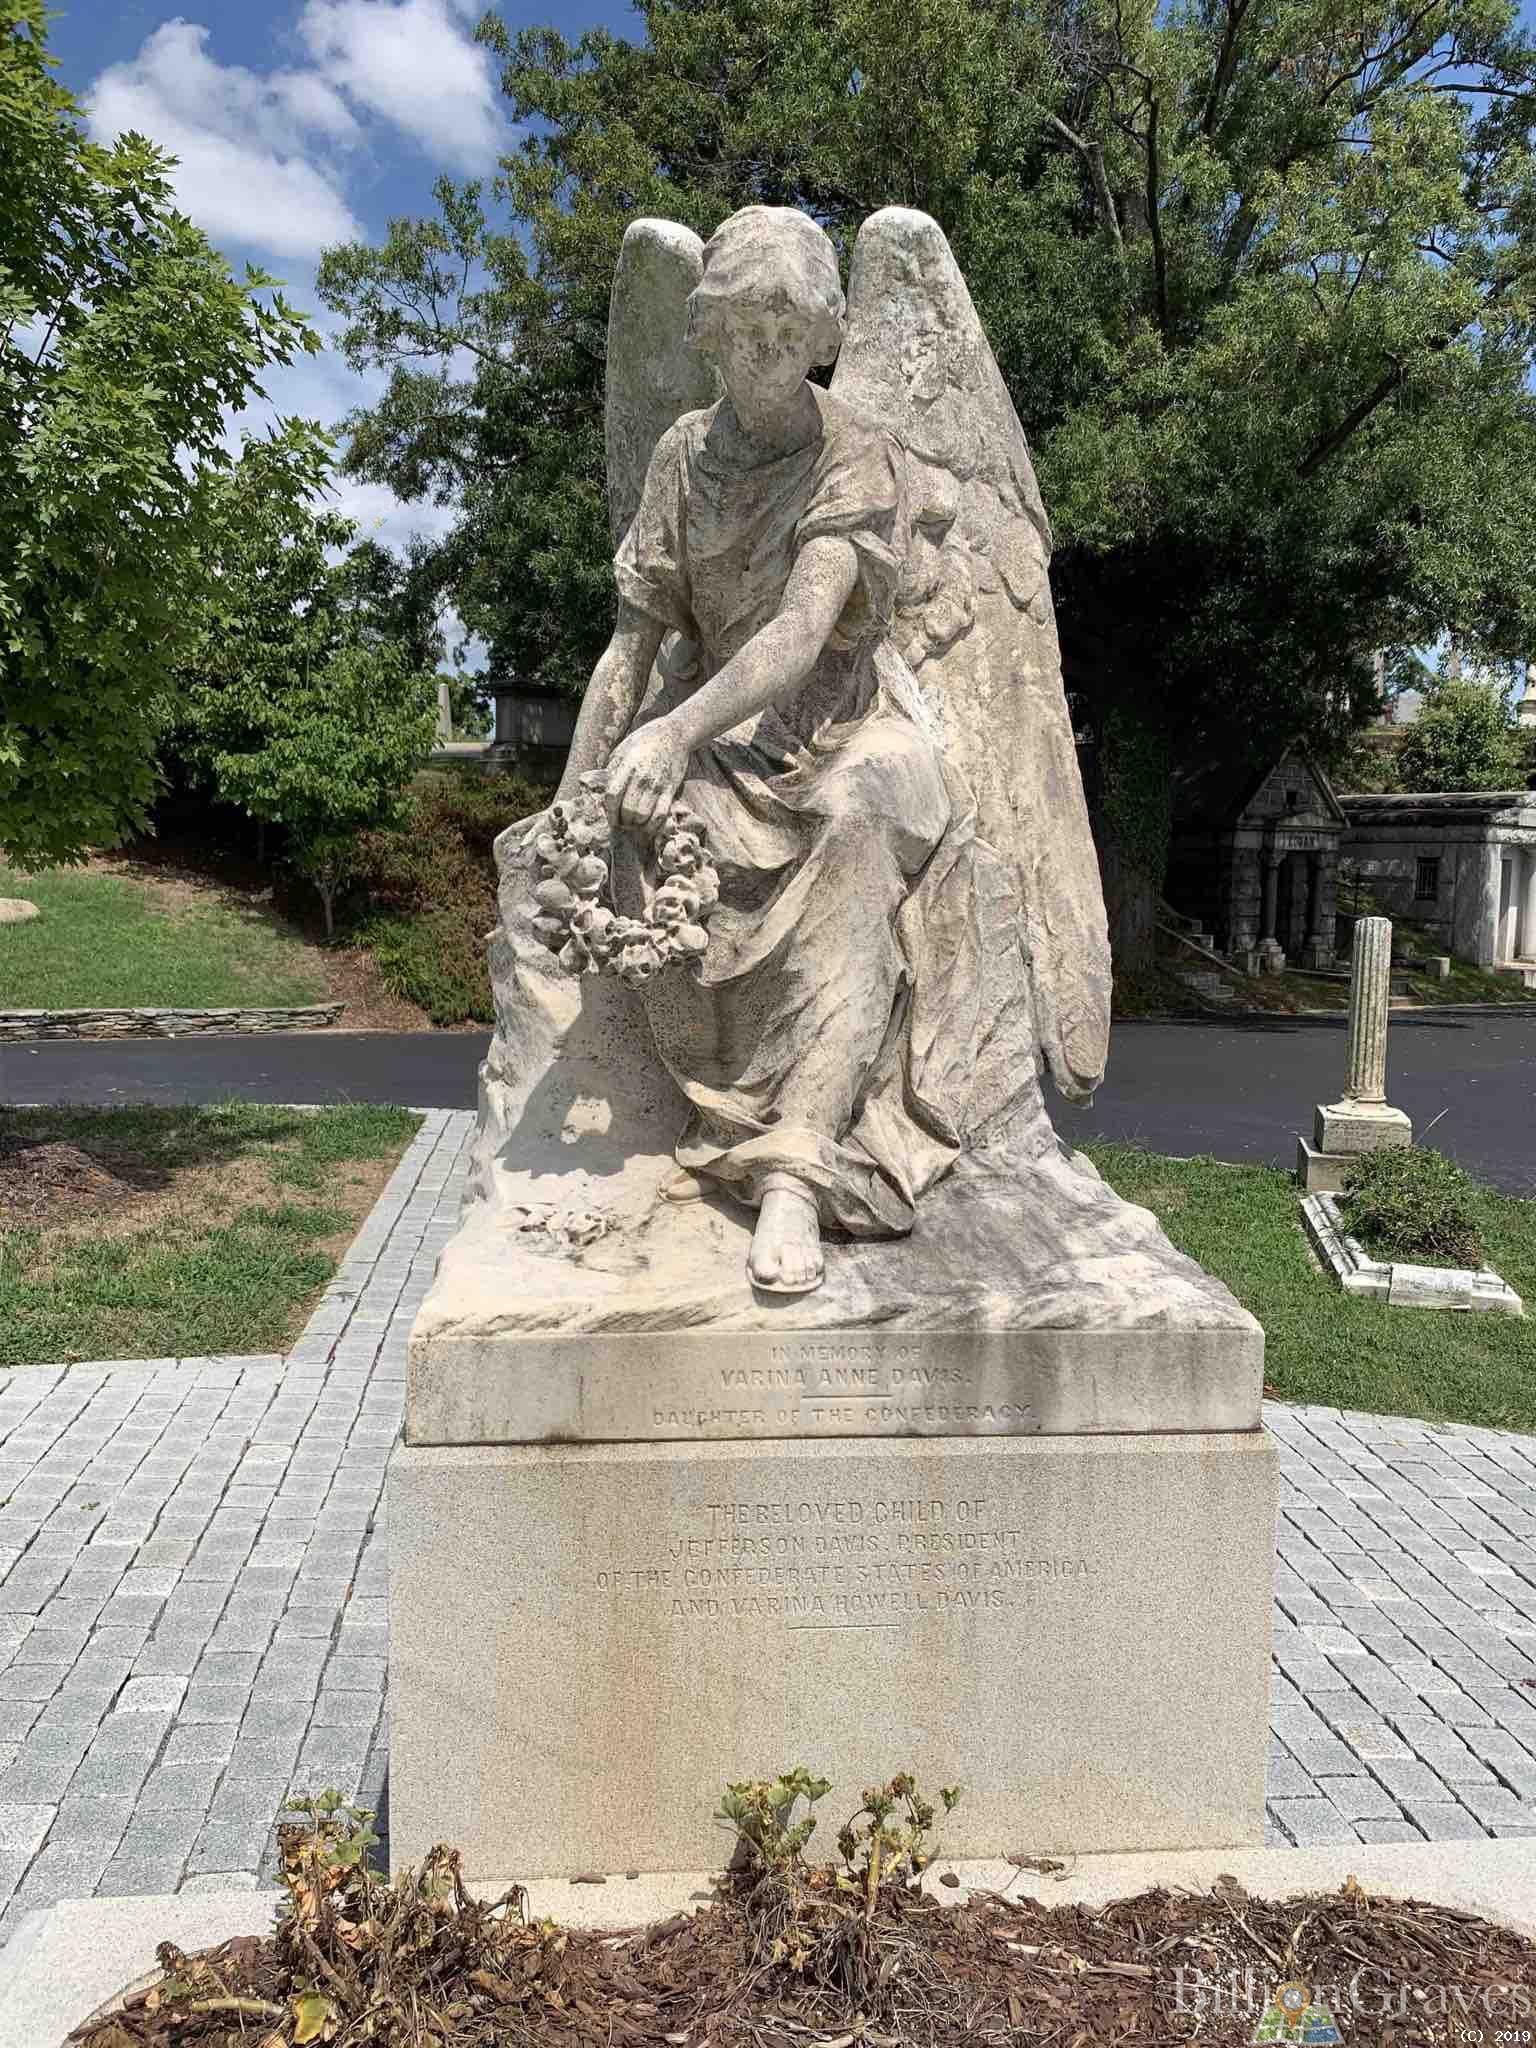statue: (379, 152, 1284, 1853)
